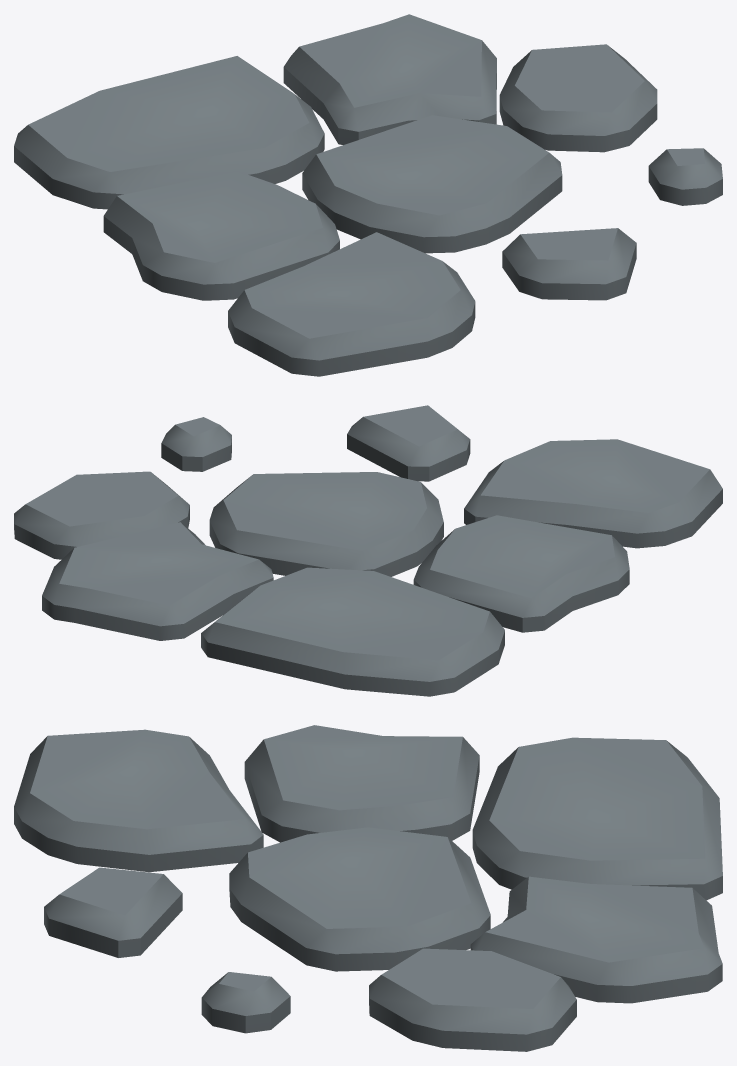
File: path_C.fbx
3 views of the same model, one above another, from view 1: azimuth 30°, elevation 25°; view 2: azimuth 150°, elevation 25°; view 3: azimuth 270°, elevation 25° (orthographic). The views are drawn at different scales.
Parts seen in each view (by area): view 1: path_C; view 2: path_C; view 3: path_C.
Part boxes in pixels (<box>): path_C: <box>14,14,722,376</box>; path_C: <box>14,405,722,696</box>; path_C: <box>14,725,722,1051</box>.
Size of the model in its own units: 185 by 10 by 186.
